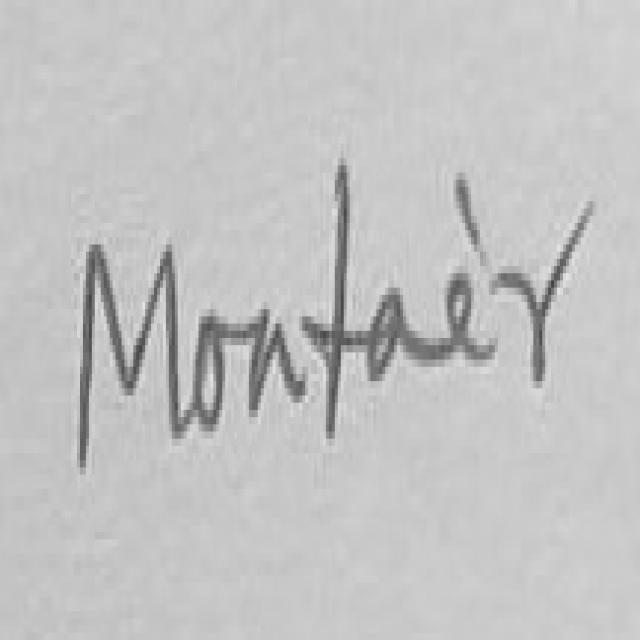M: (80, 244, 193, 464)
a: (370, 288, 430, 378)
i: (433, 273, 498, 360), (456, 180, 483, 252)
n: (235, 309, 305, 417)
o: (196, 316, 225, 431)
r: (495, 201, 596, 378)
t: (302, 165, 370, 435)
